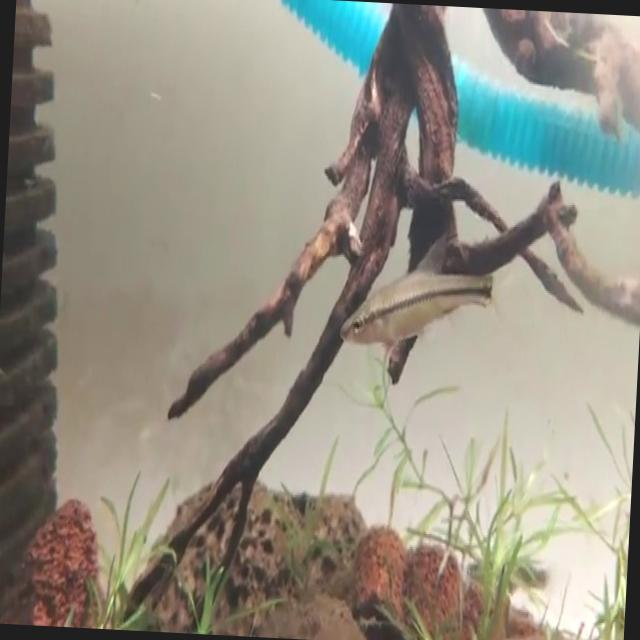Cakil Baligi: (342, 222, 507, 364)
